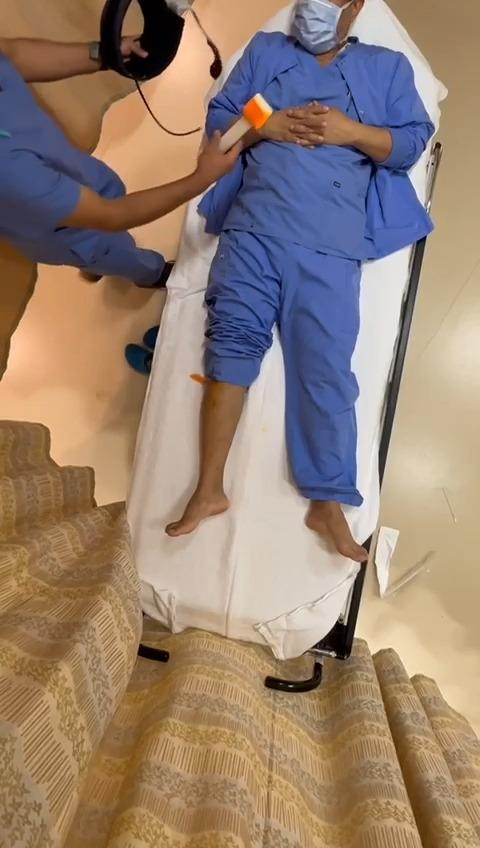bed: (108, 0, 448, 654)
patient: (182, 3, 432, 560)
prepstick: (219, 93, 272, 152)
